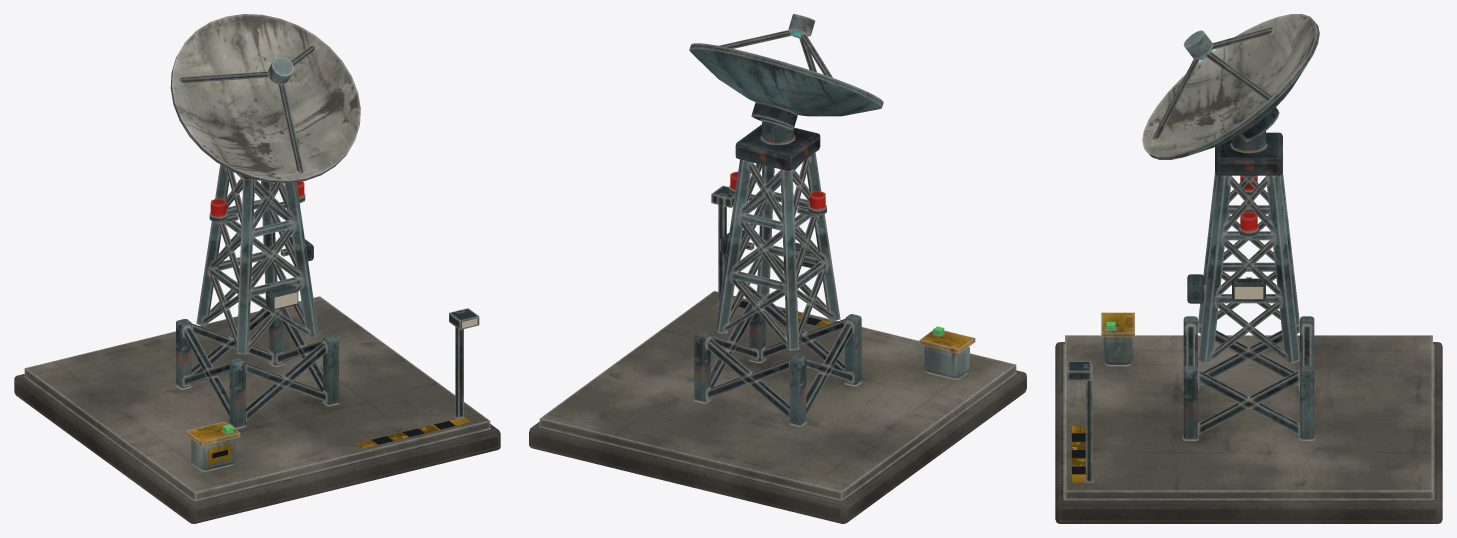
Rendered from orbital_collector.glb.
3 renders of one model, left to right at view 1: azimuth 30°, elevation 25°; view 2: azimuth 150°, elevation 25°; view 3: azimuth 270°, elevation 25°, orthographic. The views are drawn at different scales.
Parts seen in each view (by area): view 1: te_orbital_collector, move_dish; view 2: te_orbital_collector, move_dish; view 3: te_orbital_collector, move_dish.
Part boxes in pixels (x1,y1,x2,y2): te_orbital_collector: [14, 164, 500, 523]; move_dish: [170, 14, 360, 183]; te_orbital_collector: [529, 124, 1026, 523]; move_dish: [689, 14, 883, 144]; te_orbital_collector: [1055, 132, 1442, 523]; move_dish: [1142, 14, 1319, 159].
Size of the model in its own units: 0.8 by 0.9435 by 0.8.
Materials: 1 (1 with a texture image).
